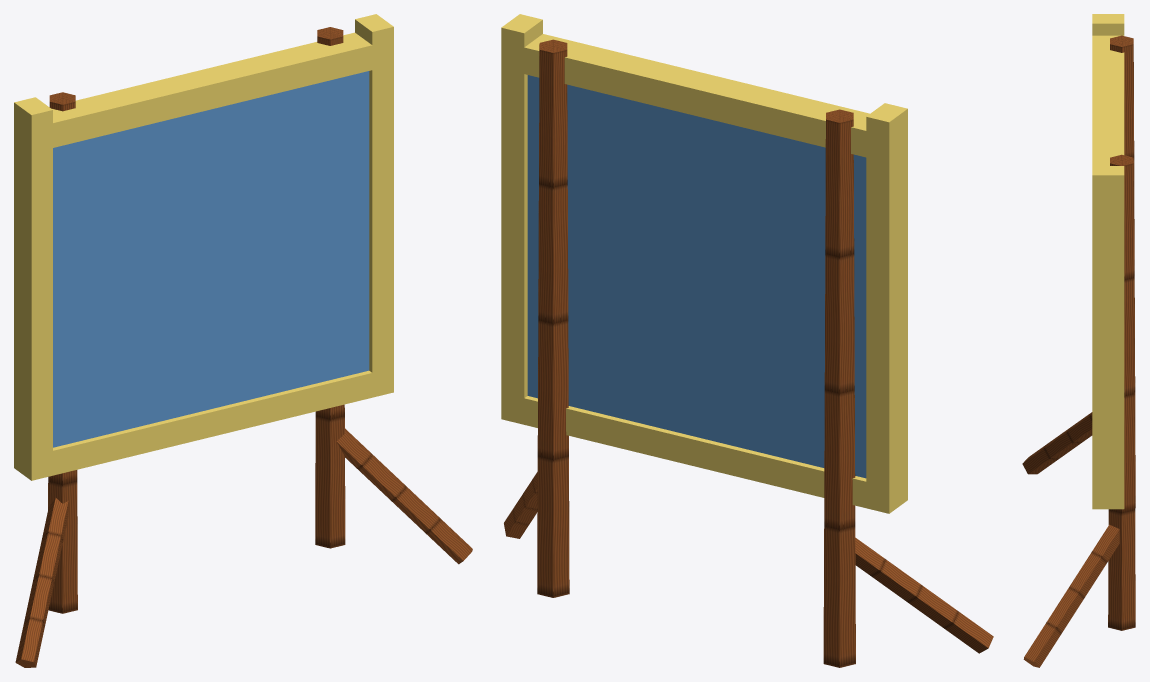
The model's file is travelling-circus-and-big-top-circus-poster-board-gold-613d49e0__36242.glb.
3 views of the same model, side by side, from view 1: azimuth 30°, elevation 25°; view 2: azimuth 150°, elevation 25°; view 3: azimuth 270°, elevation 25° (orthographic). The views are drawn at different scales.
Parts seen in each view (by area): view 1: circus-poster-board-gold-canvas, circus-poster-board-gold-stripe, circus-poster-board-gold-timber; view 2: circus-poster-board-gold-canvas, circus-poster-board-gold-stripe, circus-poster-board-gold-timber; view 3: circus-poster-board-gold-stripe, circus-poster-board-gold-timber.
Boxes of the visible parts, <box> form: circus-poster-board-gold-canvas: <box>53,71,369,447</box>; circus-poster-board-gold-stripe: <box>14,14,393,480</box>; circus-poster-board-gold-timber: <box>15,27,472,667</box>; circus-poster-board-gold-canvas: <box>527,75,866,478</box>; circus-poster-board-gold-stripe: <box>501,14,907,513</box>; circus-poster-board-gold-timber: <box>504,39,993,667</box>; circus-poster-board-gold-stripe: <box>1092,14,1124,509</box>; circus-poster-board-gold-timber: <box>1022,35,1135,667</box>.
Bounding box in the file's own units: 2.11 × 2.31 × 0.4987.
3 materials, 1 textured.
